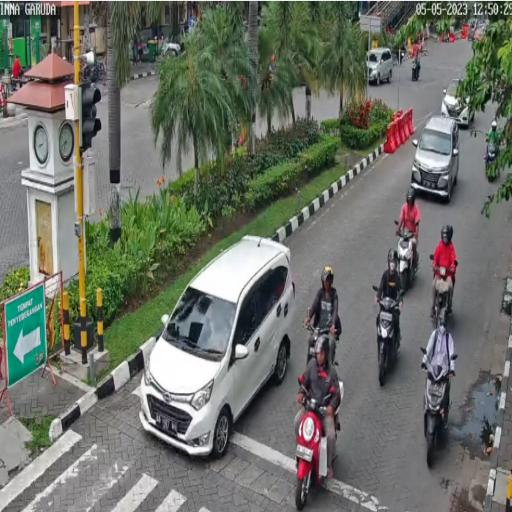mobil: (140, 232, 296, 462), (410, 112, 462, 202)
motor: (295, 377, 337, 512), (420, 345, 459, 470), (372, 284, 408, 389), (428, 254, 460, 336), (393, 219, 422, 301), (303, 302, 342, 362)
